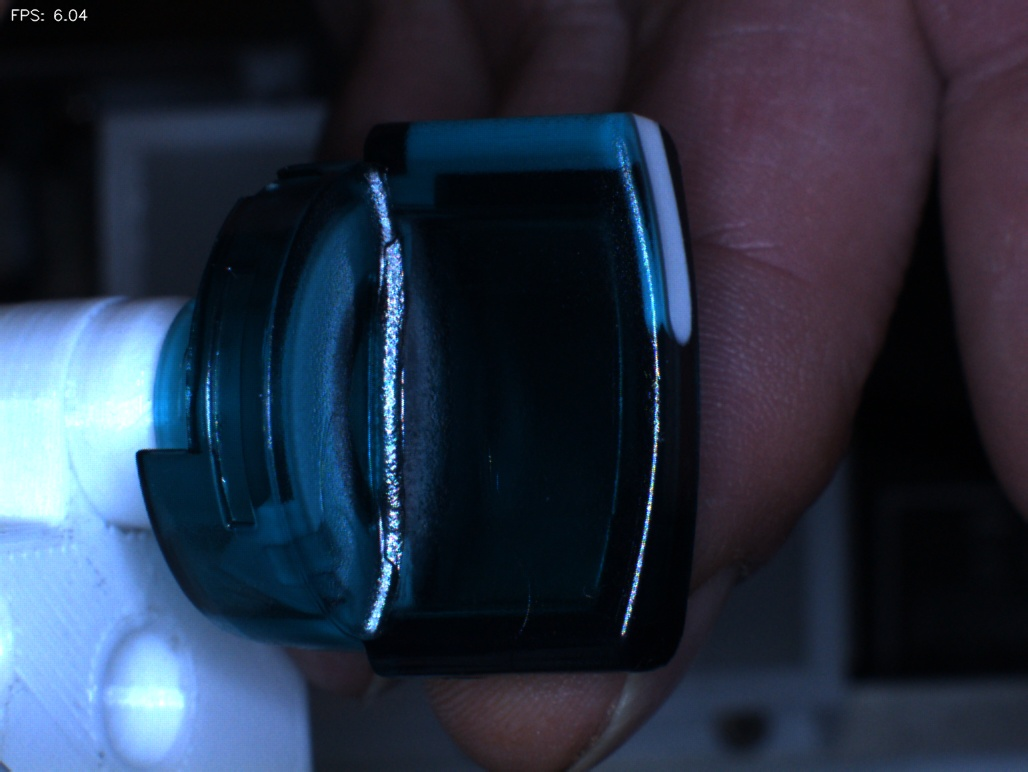Givrage: (449, 403, 557, 649)
